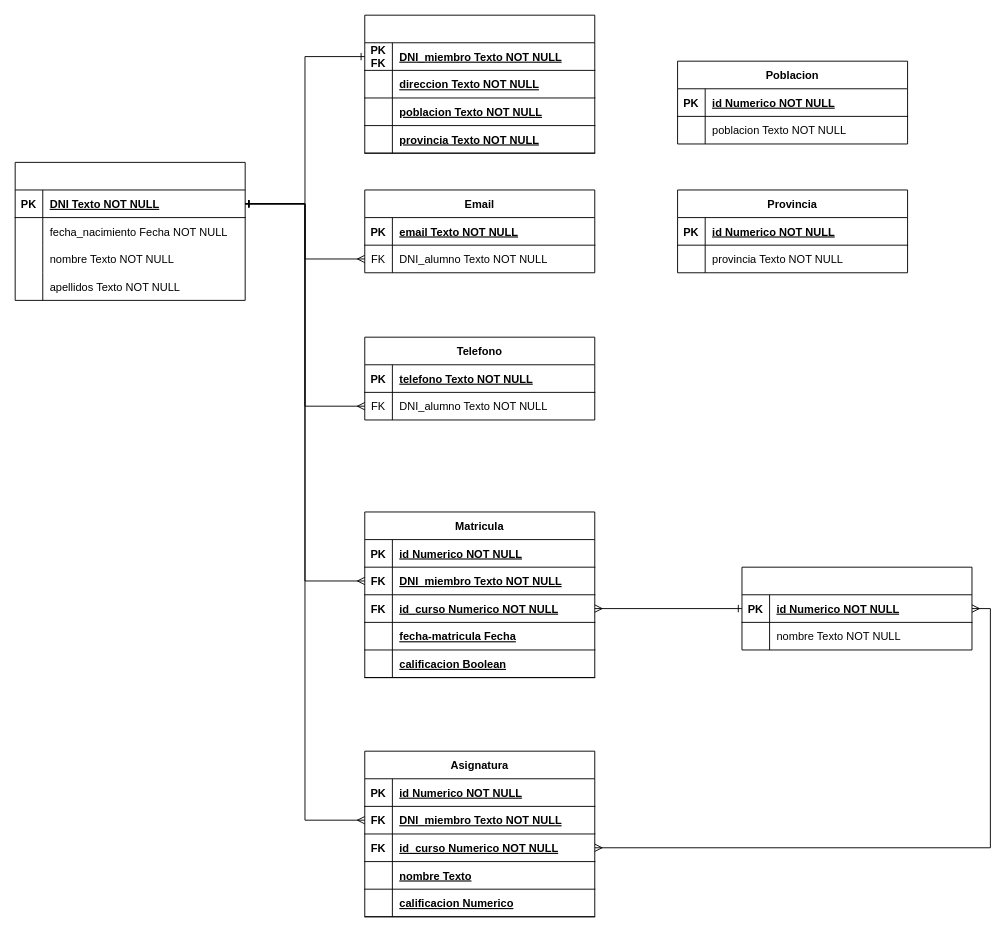
This 1006x932 diagram has some shape labels left out. The shapes that lost their labels are listed below. From the top down, each one's box as (x1, y1, x2, y2) in pixels, then its label:
(364, 14, 595, 153): Correspondencia
(14, 161, 245, 300): Miembro
(741, 566, 972, 650): Curso
